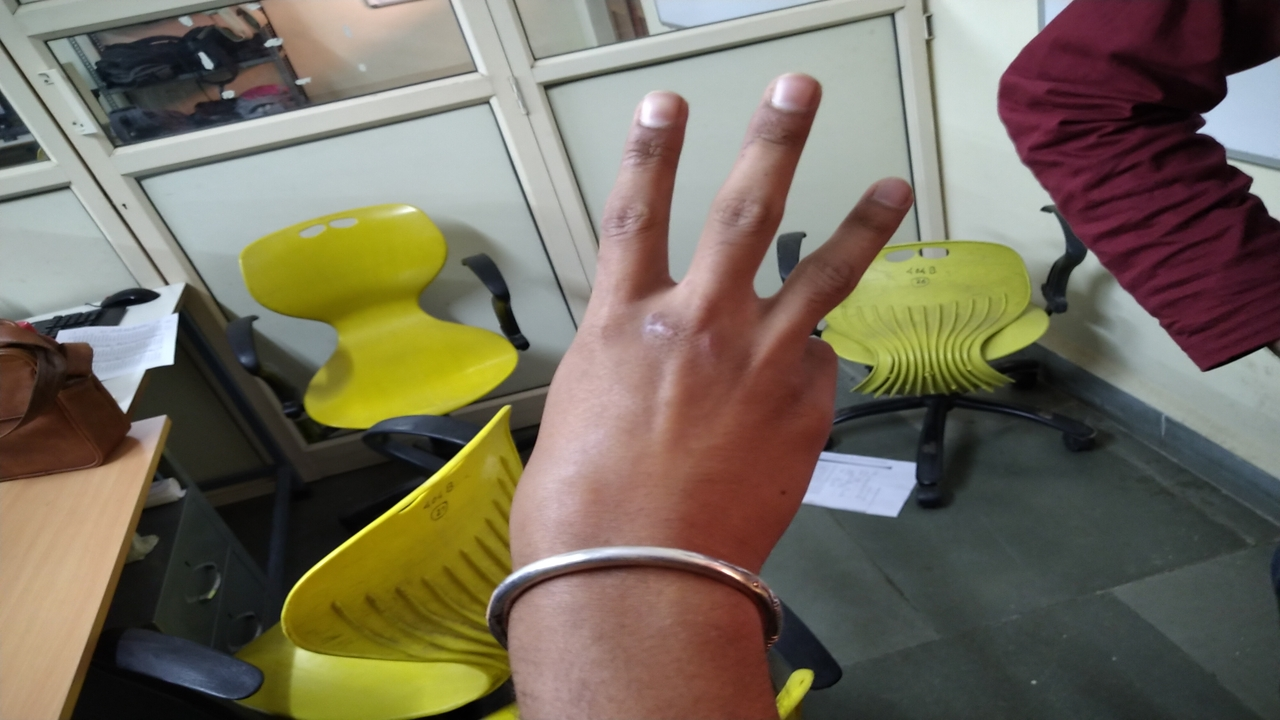fingertip: (758, 62, 828, 122), (626, 82, 692, 140), (856, 170, 918, 224)
